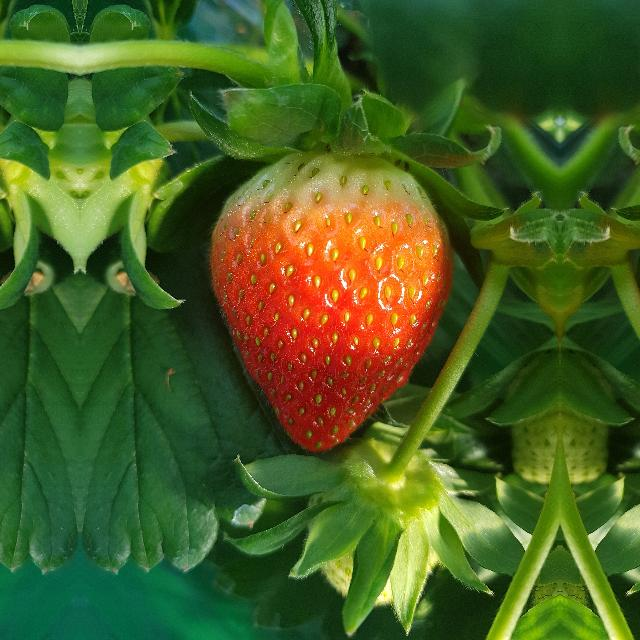Health_75: (208, 150, 454, 452)
